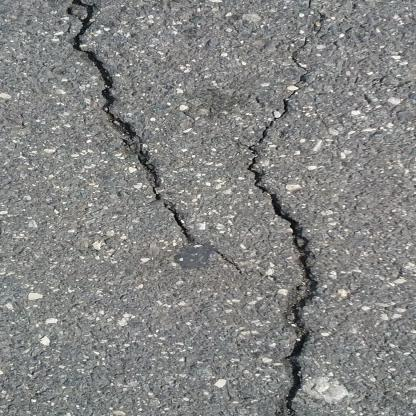Cracks: (0, 0, 197, 245), (248, 50, 326, 416)
